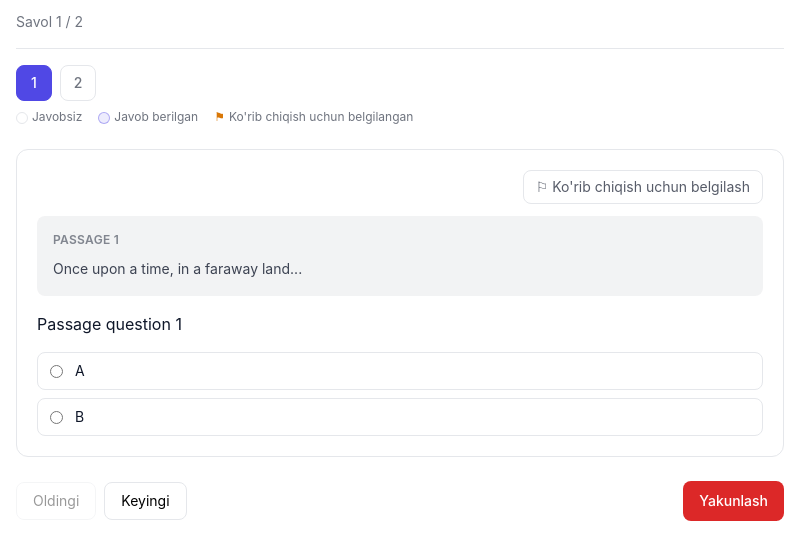
AttemptPage — Sprint 77 QuestionGroup/stimulus_text delivery › group to ungrouped transition: no stimulus panel for an ungrouped question
expect the text "Passage question 1" is shown: met, box [37,314,182,334]
expect the element with test id "group-stimulus" is shown: met, box [37,216,763,296]
Step 1. Click the button "Keyingi" → (145, 501), box [104,482,187,520]
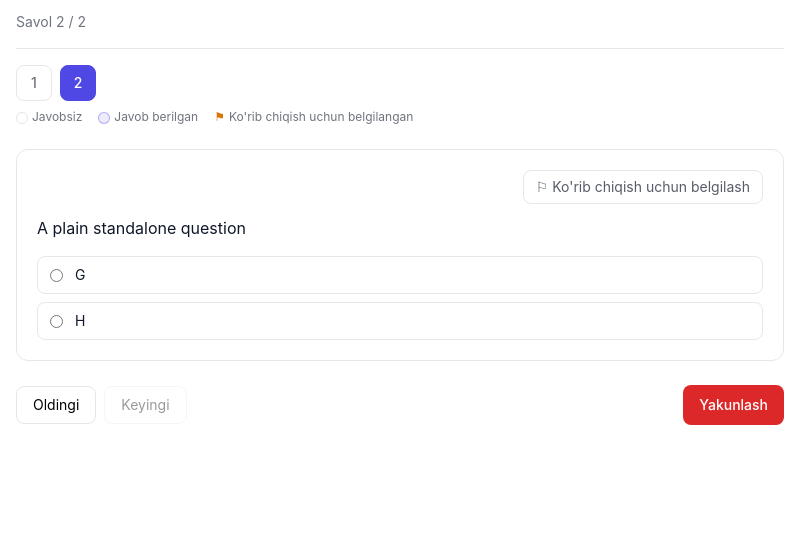
expect the text "A plain standalone question" is shown: met, box [37,218,246,238]
expect the element with test id "group-stimulus" is gone: met
